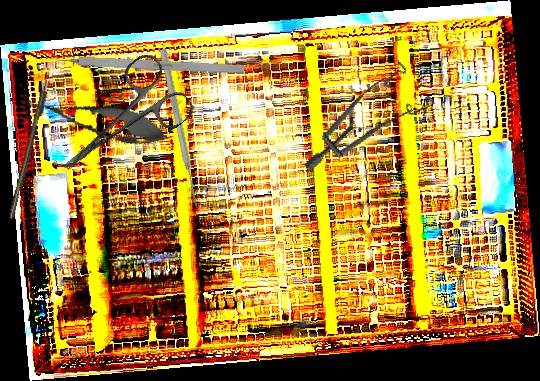Hook Surgical: (7, 68, 54, 220), (40, 53, 245, 75)
Iris Scissors: (40, 48, 198, 197)
Micro Scissor: (20, 86, 175, 154)
Pusher: (157, 48, 202, 208)
Speculum: (302, 41, 446, 208)
